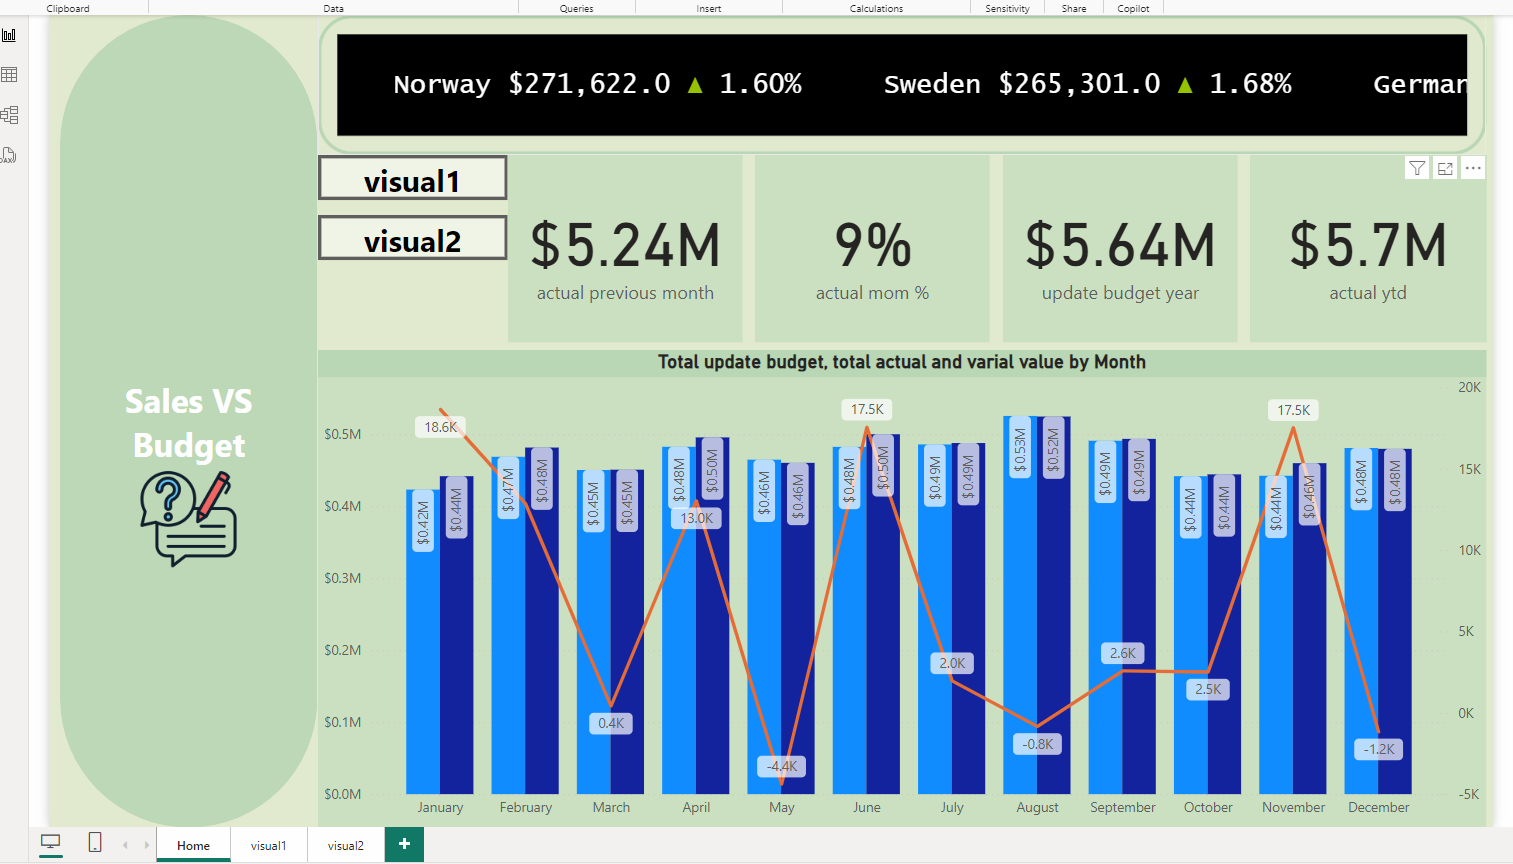

The page's visual inventory and layout, read from the dashboard file:
{"tool":"powerbi","page":{"name":"Home ","canvas":[1280,720],"ordinal":0},"visuals":[{"type":"shape","box":[10,0,228.3,720.6],"z":0},{"type":"image","box":[10,398.1,228.3,98.5],"z":1000},{"type":"lineClusteredColumnComboChart","title":"Total update budget, total actual and varial value by Month","fields":{"Category":["calender table.Date.Variation.Date Hierarchy.Month"],"Y":["all measures.total update budget","all measures.total actual"],"Y2":["all measures.varial value"]},"box":[238.3,296.8,1036,423.8],"z":2000},{"type":"card","fields":{"Values":["all measures.actual previous month"]},"box":[406.7,124.1,208.3,165.5],"z":3000},{"type":"card","fields":{"Values":["all measures.actual mom %"]},"box":[626.4,124.1,208.3,165.5],"z":4000},{"type":"card","fields":{"Values":["all measures.update budget year"]},"box":[846.2,124.1,208.3,165.5],"z":5000},{"type":"card","fields":{"Values":["all measures.actual ytd"]},"box":[1064.5,124.1,209.8,165.5],"z":6000},{"type":"ScrollingTextVisual1448795304508","fields":{"Category":["Region.country"],"Measure Absolute":["all measures.total actual"],"Measure Deviation":["all measures.variance %"]},"box":[238.3,0,1036,124.1],"z":7000},{"type":"actionButton","box":[238.3,124.1,168.4,40],"z":8000},{"type":"actionButton","box":[238.3,176.9,168.4,40],"z":9000}]}

Visuals, with their boxes on the page's 1280x720 design canvas (x1, y1, x2, y2). These are canvas units, not pixel positions in the 1513x864 screenshot, which may show the page scaled, cropped or inside an application window:
shape: 10, 0, 238, 721
image: 10, 398, 238, 497
"Total update budget, total actual and varial value by Month" lineClusteredColumnComboChart: 238, 297, 1274, 721
card - all measures.actual previous month: 407, 124, 615, 290
card - all measures.actual mom %: 626, 124, 835, 290
card - all measures.update budget year: 846, 124, 1054, 290
card - all measures.actual ytd: 1064, 124, 1274, 290
ScrollingTextVisual1448795304508 - Region.country x all measures.total actual: 238, 0, 1274, 124
actionButton: 238, 124, 407, 164
actionButton: 238, 177, 407, 217
